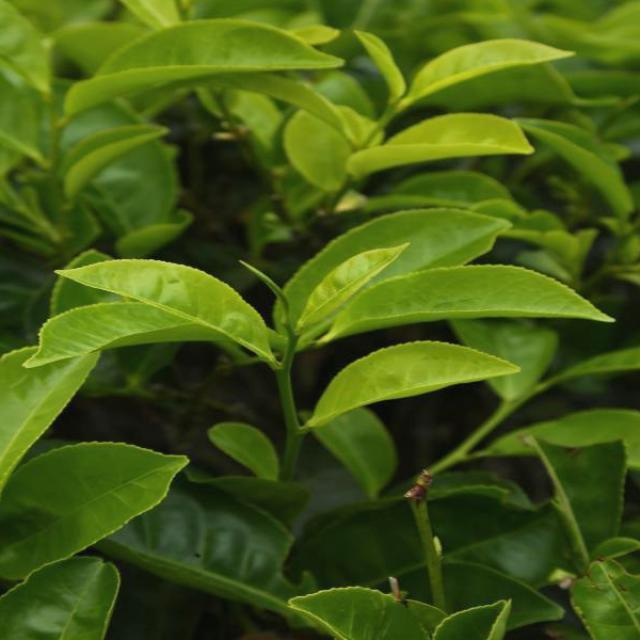Stem: (273, 367, 298, 423), (365, 113, 393, 141)
